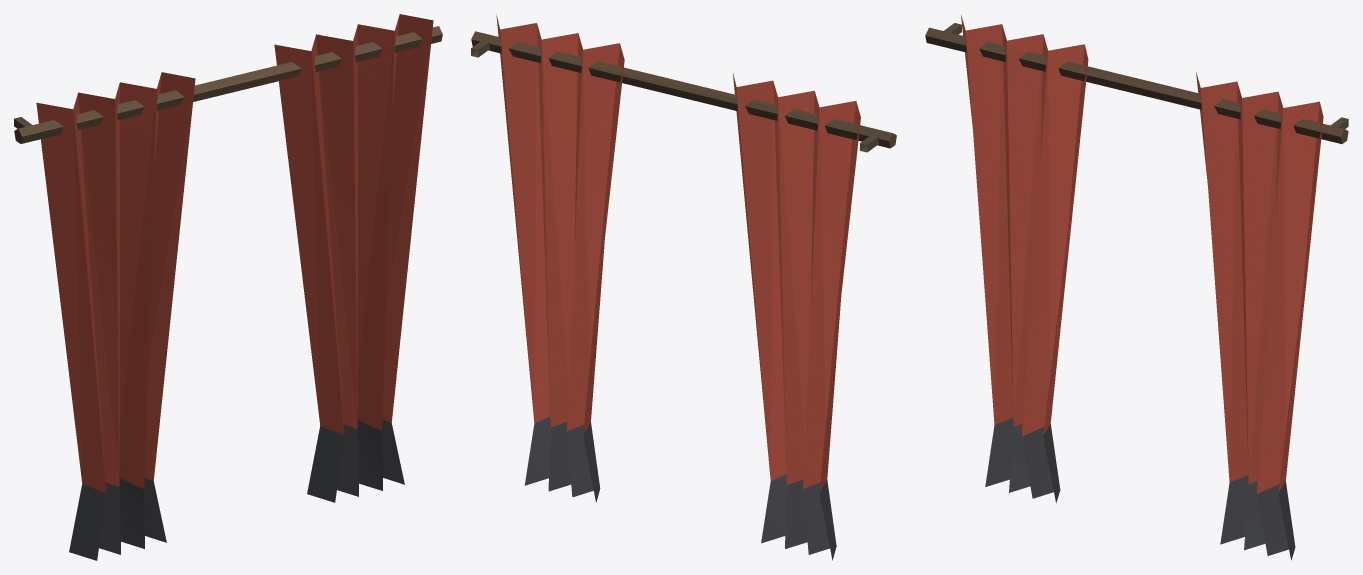
The model's file is Curtain_Window.fbx.
3 views of the same model, side by side, from view 1: azimuth 30°, elevation 25°; view 2: azimuth 150°, elevation 25°; view 3: azimuth 330°, elevation 25° (orthographic).
Parts seen in each view (by area): view 1: polySurface1511; view 2: polySurface1511; view 3: polySurface1511.
Boxes of the visible parts, x1=… form: polySurface1511: x1=14, y1=14, x2=442, y2=560; polySurface1511: x1=471, y1=14, x2=896, y2=560; polySurface1511: x1=925, y1=15, x2=1348, y2=560.
Bounding box in the file's own units: 290 × 300 × 37.19.
